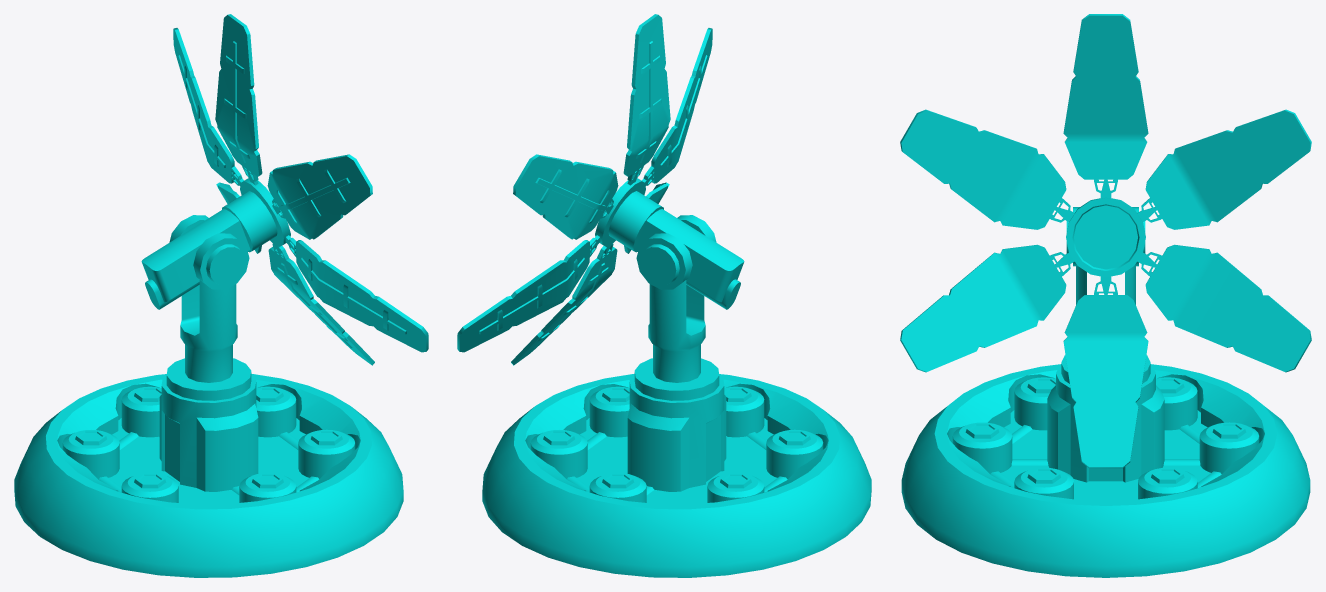
File: SolarPannelThree.fbx
3 renders of one model, left to right at view 1: azimuth 30°, elevation 25°; view 2: azimuth 150°, elevation 25°; view 3: azimuth 270°, elevation 25°, orthographic. The views are drawn at different scales.
Parts seen in each view (by area): view 1: SolarThreeBody, SolarThreeRotatePannel; view 2: SolarThreeBody, SolarThreeRotatePannel; view 3: SolarThreeRotatePannel, SolarThreeBody.
Boxes of the visible parts, box(x1,y1,x2,y2) form: SolarThreeBody: box(14, 215, 403, 577); SolarThreeRotatePannel: box(141, 14, 428, 365); SolarThreeBody: box(482, 215, 871, 577); SolarThreeRotatePannel: box(457, 14, 744, 365); SolarThreeRotatePannel: box(900, 14, 1311, 468); SolarThreeBody: box(901, 207, 1310, 577).
Size of the model in its own units: 945 by 1252 by 952.
